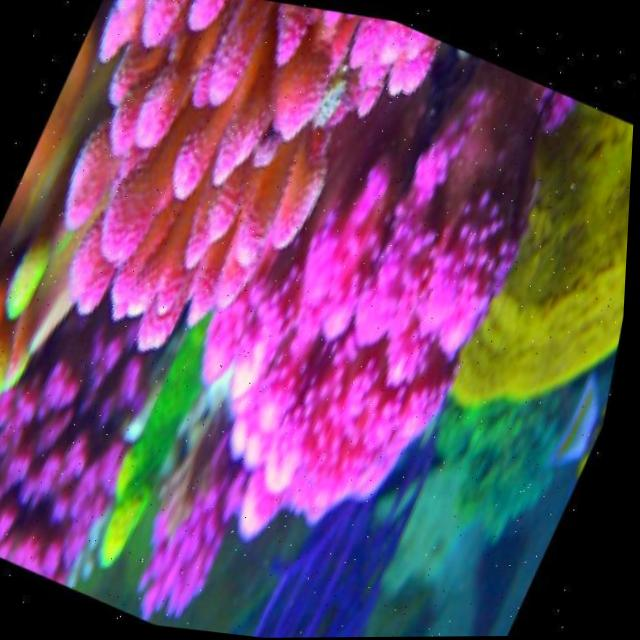Healthy Coral: (137, 26, 601, 613), (63, 0, 425, 326), (0, 307, 137, 576)
